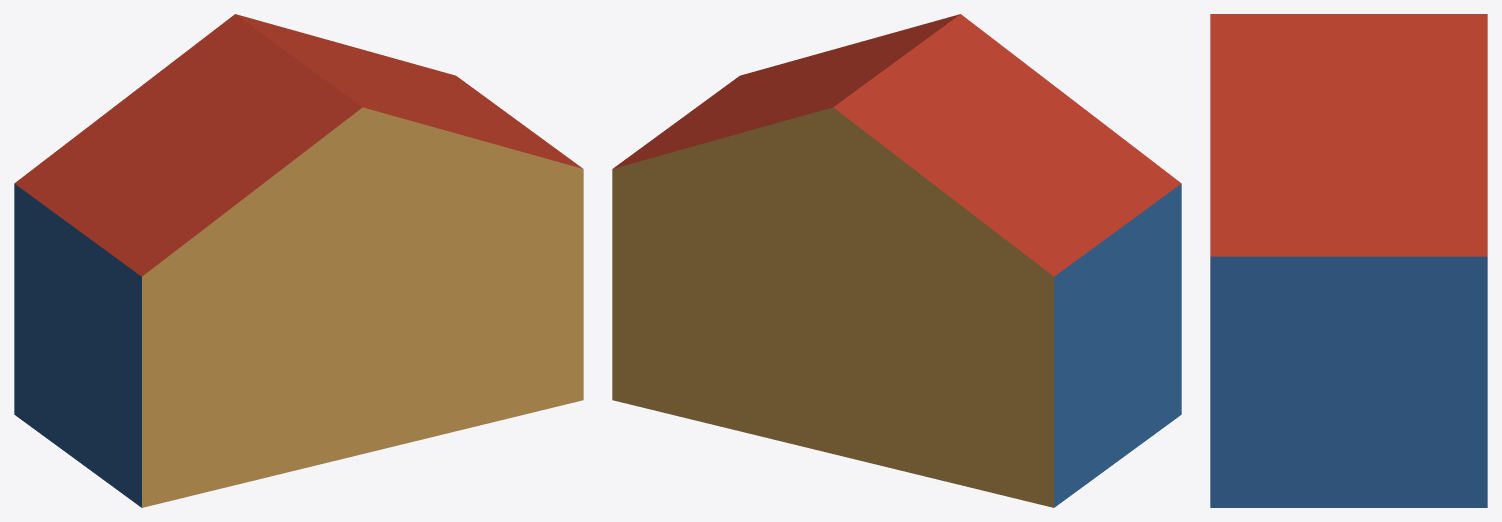
The model's file is house.obj.
3 renders of one model, left to right at view 1: azimuth 30°, elevation 25°; view 2: azimuth 150°, elevation 25°; view 3: azimuth 270°, elevation 25°, orthographic. The views are drawn at different scales.
Visible parts, largest first — view 1: house; view 2: house; view 3: house.
Part boxes in pixels (left/top/right/bottom): house: left=14, top=14, right=583, bottom=507; house: left=612, top=14, right=1181, bottom=507; house: left=1210, top=14, right=1487, bottom=507.
Bounding box in the file's own units: 160 × 120 × 80.
